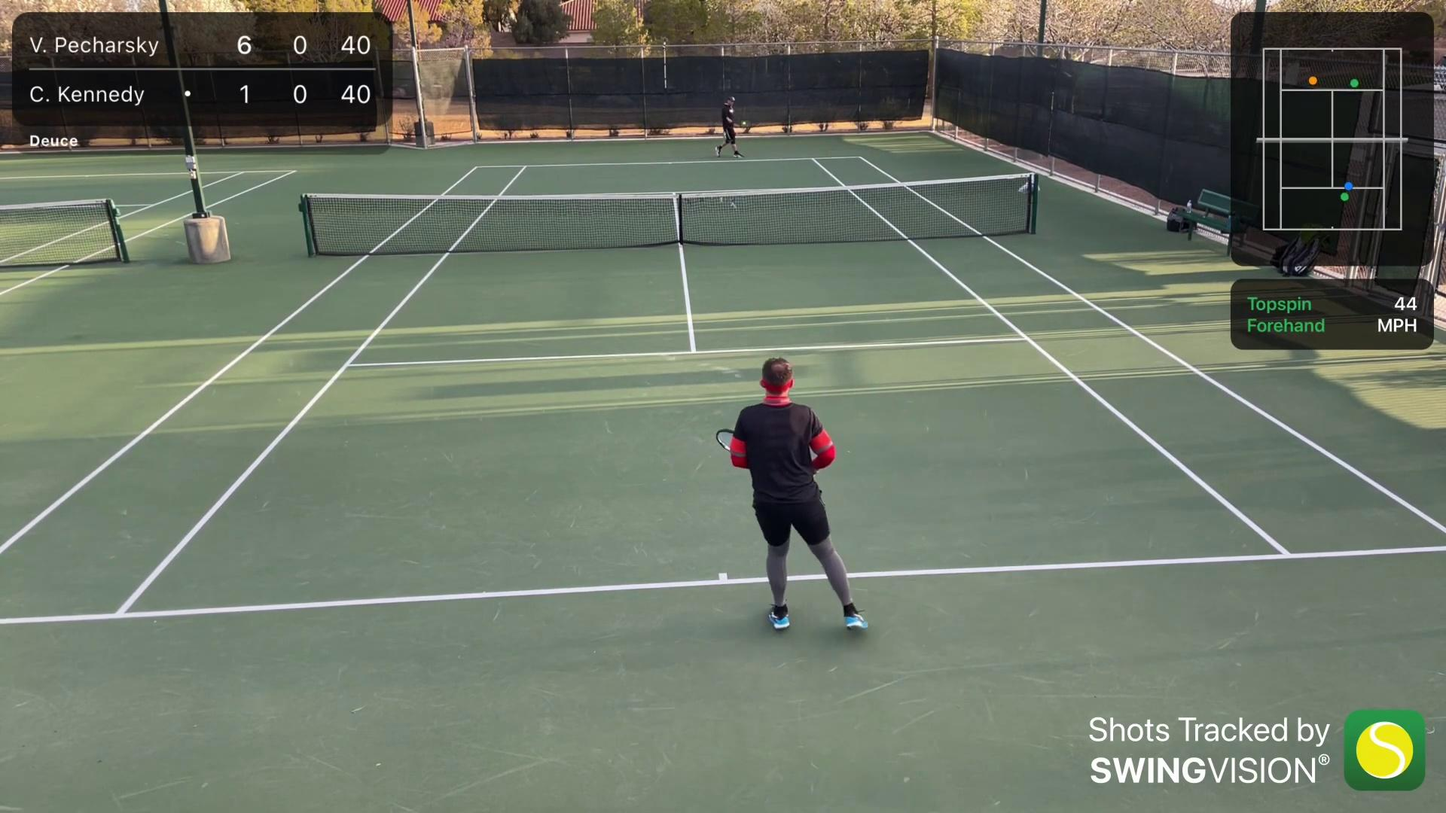ball: (742, 121, 747, 126)
